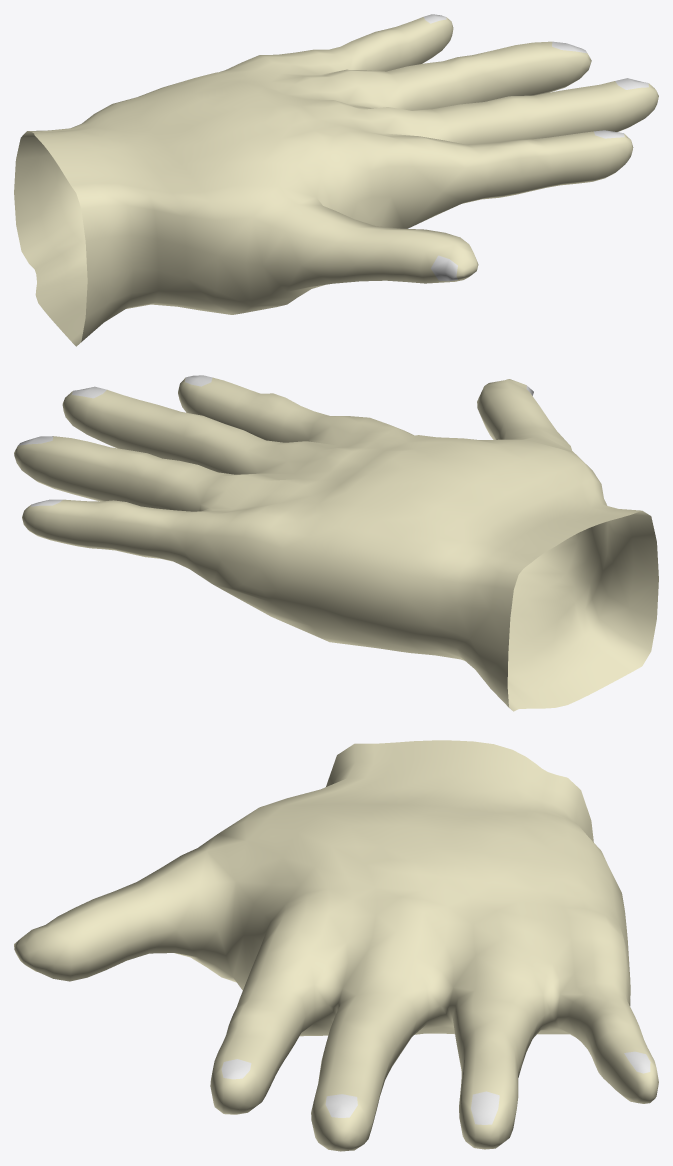
Rendered from hand.gltf.
The picture shows the model from 3 angles, top to bottom: view 1: azimuth 30°, elevation 25°; view 2: azimuth 150°, elevation 25°; view 3: azimuth 270°, elevation 25°; orthographic projection. The views are drawn at different scales.
Parts seen in each view (by area): view 1: Cube; view 2: Cube; view 3: Cube.
Boxes of the visible parts, x1,y1,x2,y2 form: Cube: [14, 14, 658, 346]; Cube: [14, 375, 658, 711]; Cube: [14, 740, 658, 1151].
Bounding box in the file's own units: 8.95 × 2.55 × 6.95.
